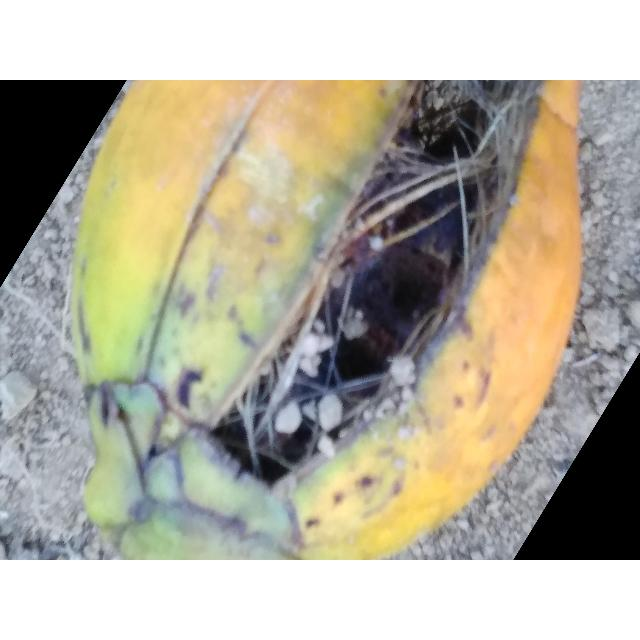damaged: (68, 80, 582, 560)
